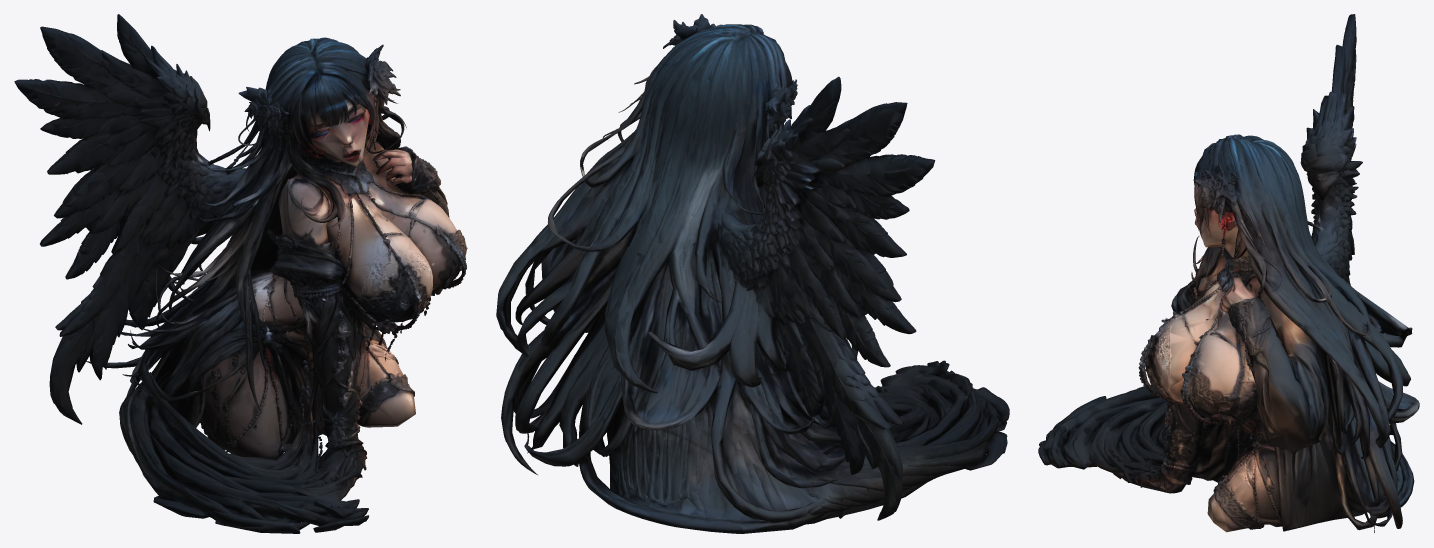
The model's file is 01a19d9e-51b2-7c94-aca6-5113cd746a23.glb.
The picture shows the model from 3 angles, left to right: view 1: azimuth 30°, elevation 25°; view 2: azimuth 150°, elevation 25°; view 3: azimuth 270°, elevation 25°; orthographic projection. The views are drawn at different scales.
Visible parts, largest first — view 1: model; view 2: model; view 3: model.
Boxes of the visible parts, x1,y1,x2,y2 form: model: (14,14,467,533); model: (496,14,1009,533); model: (1038,14,1419,532).
Bounding box in the file's own units: 1.89 × 1.9 × 1.72.
1 material, 1 textured.
